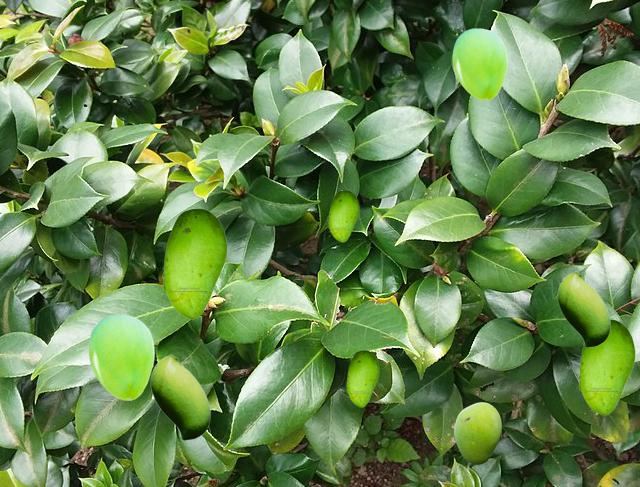green_mango: (162, 208, 226, 318), (88, 314, 153, 399), (578, 319, 634, 414), (150, 354, 209, 439), (557, 271, 609, 346), (452, 28, 506, 99), (454, 402, 500, 463), (346, 350, 378, 406), (328, 190, 358, 241)
